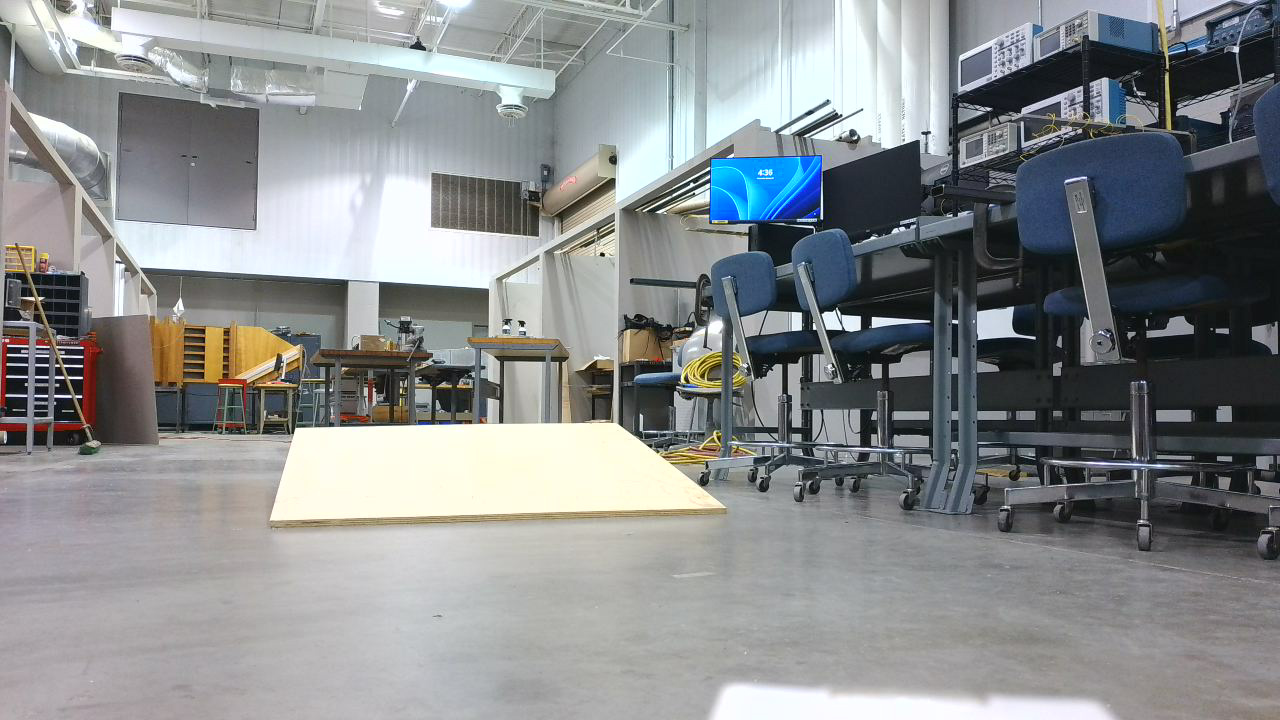ramp: (268, 424, 737, 538)
